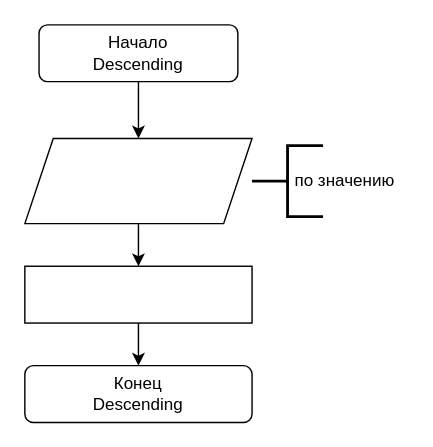
Image size: 433x447. Some labels were removed from this diagram. Each missing label, with the centre of its shape:
"Descending = a < b" goes at (x=137, y=294).
"Ввести a,b" goes at (x=137, y=180).
